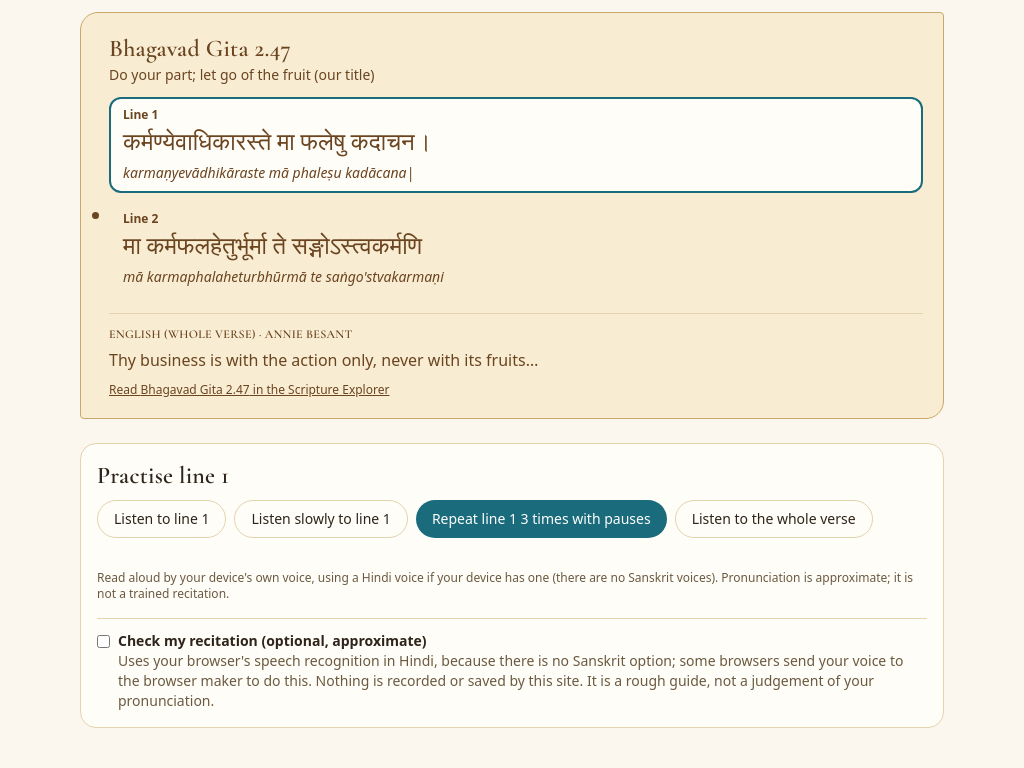
Test: Shloka Practice Studio › stops the repeats when the learner switches verse
(page scrolled)
Click the button "Repeat line 1 3 times with pauses" at (541, 519), box [416, 500, 667, 538]
(page scrolled)
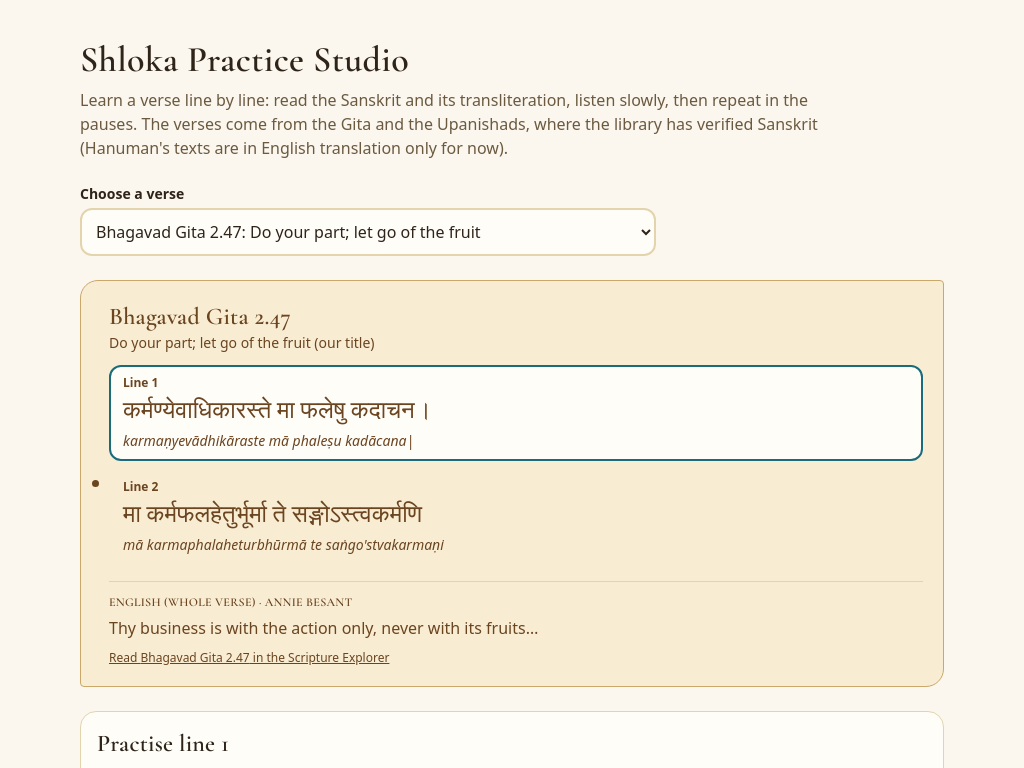
Select "Isa Upanishad 1: All this is covered by the Lord" in the dropdown labelled "Choose a verse" at (368, 232), box [80, 208, 656, 256]
Wait 5000 ms
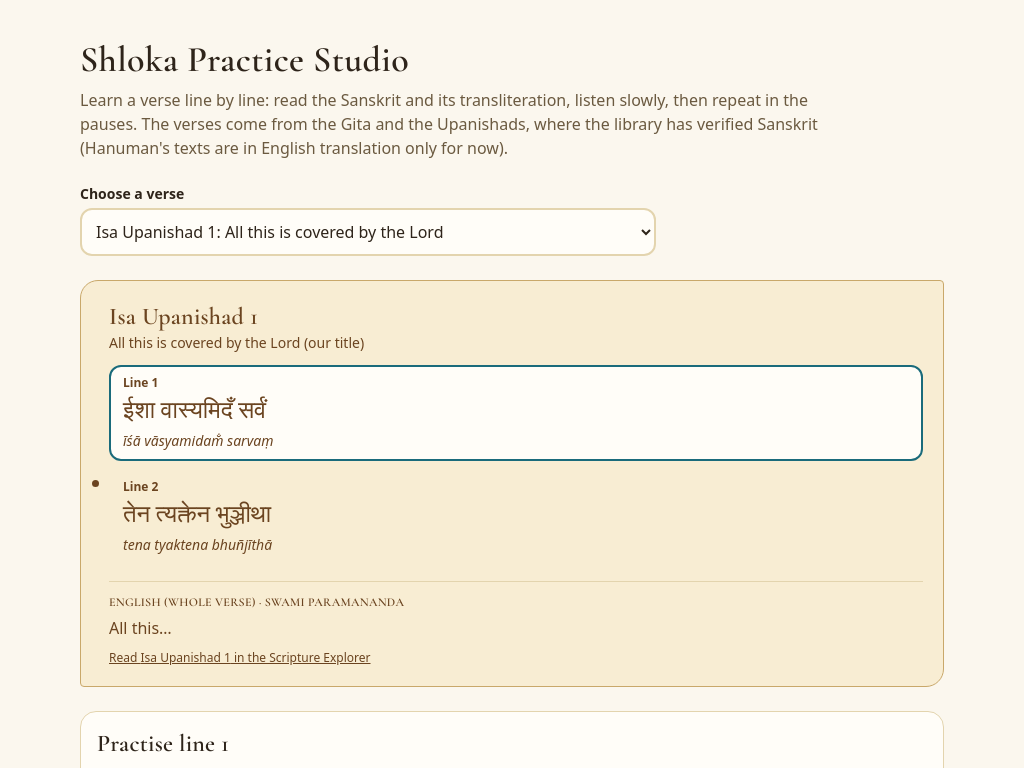
Expected: the heading "Isa Upanishad 1" is shown, [109, 302, 258, 331]
